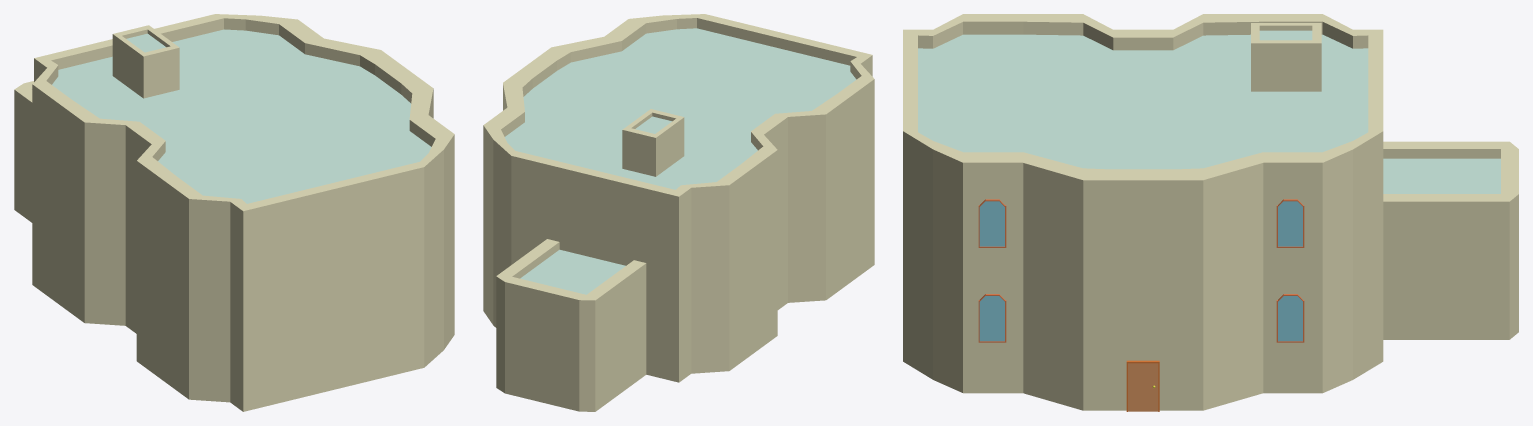
Rendered from MainHall.fbx.
3 views of the same model, side by side, from view 1: azimuth 30°, elevation 25°; view 2: azimuth 150°, elevation 25°; view 3: azimuth 270°, elevation 25° (orthographic). The views are drawn at different scales.
Parts seen in each view (by area): view 1: Main, Roof, Roof.001; view 2: Main, Roof, Roof.002, Roof.001; view 3: Main, Roof, Roof.002, Door, Window, Window.001, Window.002, Window.003, Roof.001.
Part boxes in pixels (x1,y1,x2,y2): Main: (14,14,454,411); Roof: (52,29,431,203); Roof.001: (126,33,165,52); Main: (483,14,874,411); Roof: (505,28,856,189); Roof.002: (520,249,625,294); Roof.001: (635,116,671,133); Main: (903,14,1518,410); Roof: (918,34,1368,169); Roof.002: (1383,158,1500,193); Door: (1126,360,1159,411); Window: (1276,294,1304,342); Window.001: (978,294,1006,342); Window.002: (978,199,1006,247); Window.003: (1276,199,1304,247); Roof.001: (1259,30,1312,40).
Bounding box in the file's own units: 1656 × 1224 × 2565.
